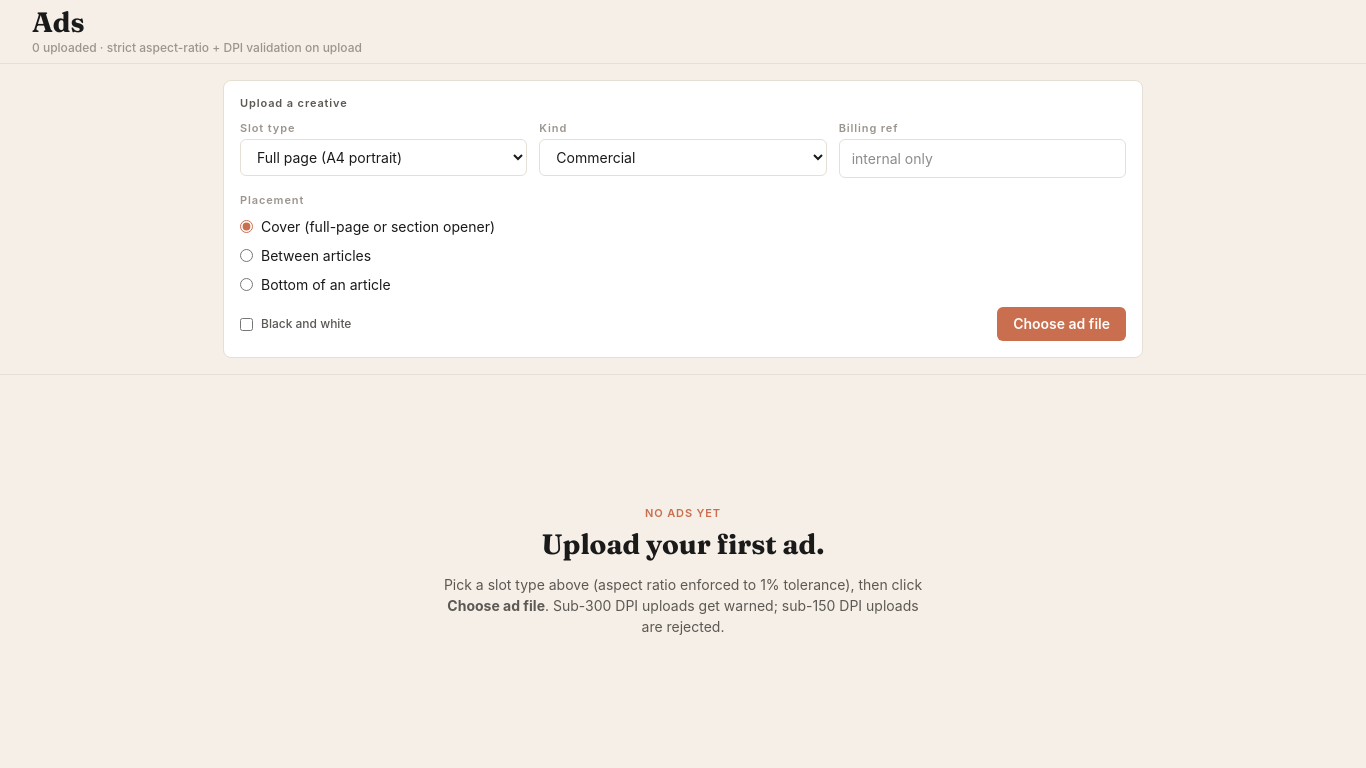
AdsScreen radio + article picker › selecting Bottom of an article reveals the same picker
Click the radio button with test id "ad-placement-bottom-of": (246, 284) [240,278,253,291]
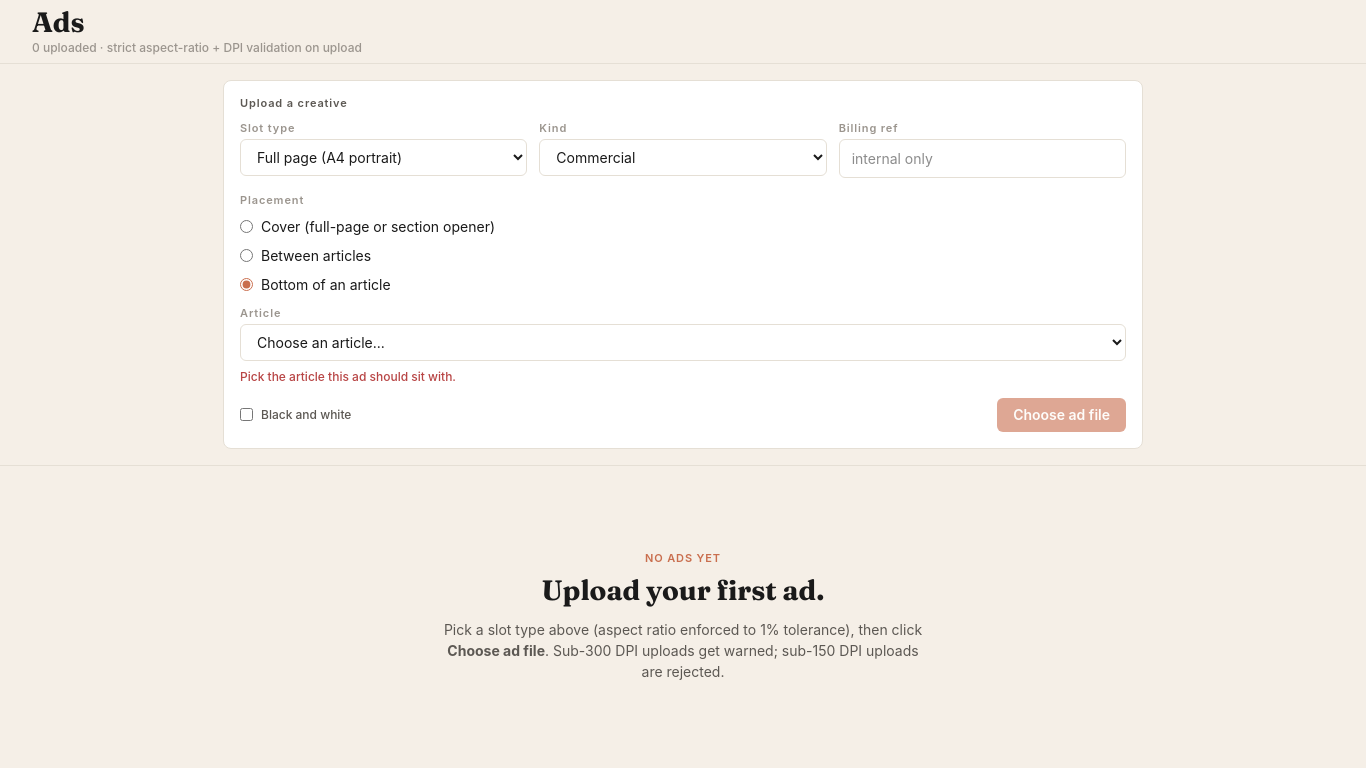
expect the dropdown with test id "ad-placement-article" is shown: met, box [240,324,1126,361]
